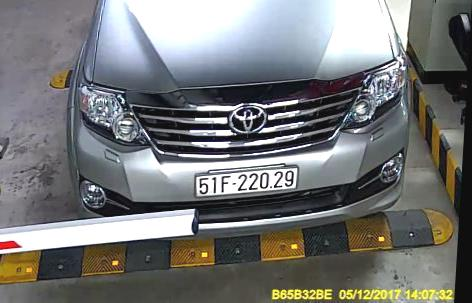License_Plate: (190, 166, 302, 197)
